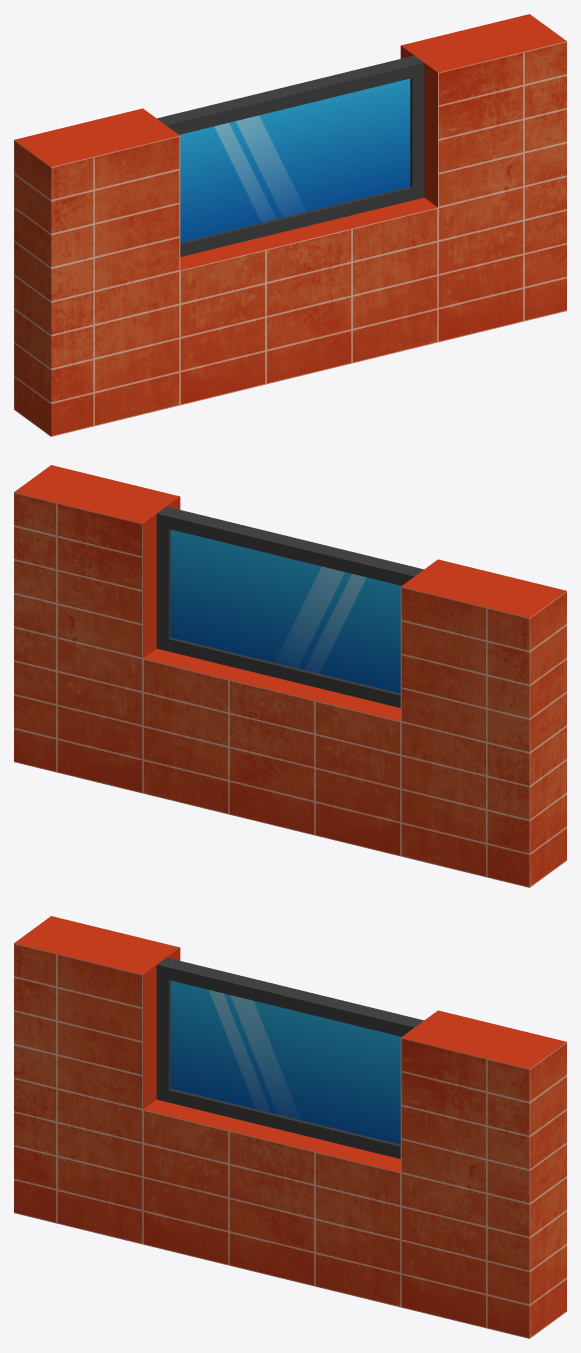
The model's file is Wall_Window_01.fbx.
3 renders of one model, top to bottom at view 1: azimuth 30°, elevation 25°; view 2: azimuth 150°, elevation 25°; view 3: azimuth 330°, elevation 25°, orthographic.
Visible parts, largest first — view 1: Wall_Window_01; view 2: Wall_Window_01; view 3: Wall_Window_01.
Part boxes in pixels (left/top/right/bottom): Wall_Window_01: left=14, top=14, right=566, bottom=436; Wall_Window_01: left=14, top=465, right=566, bottom=887; Wall_Window_01: left=14, top=916, right=566, bottom=1338.
Size of the model in its own units: 400 by 200 by 50.
